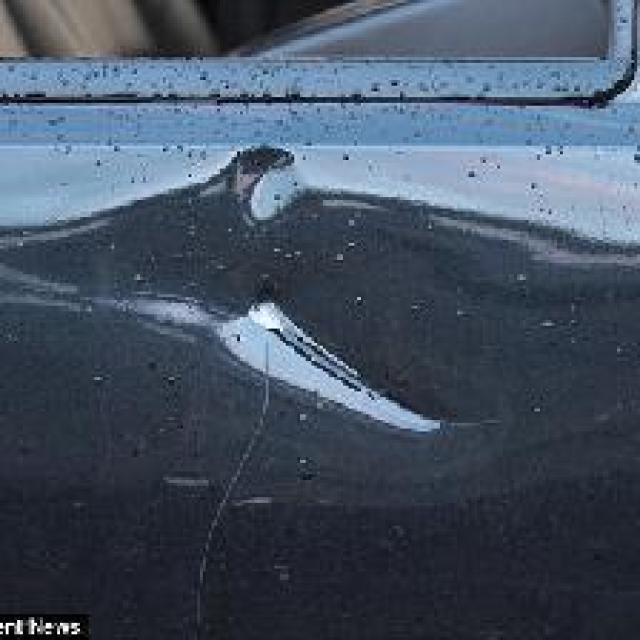damaged: (8, 148, 638, 443)
